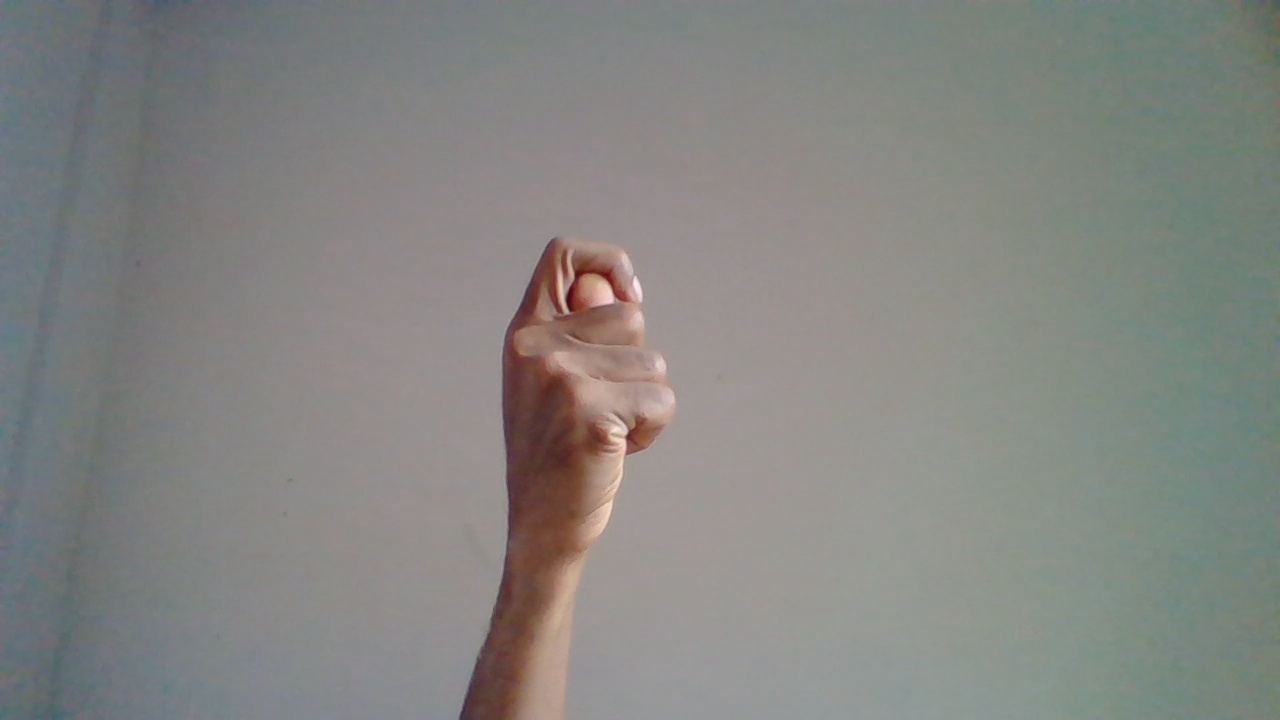che: (486, 236, 680, 679)
